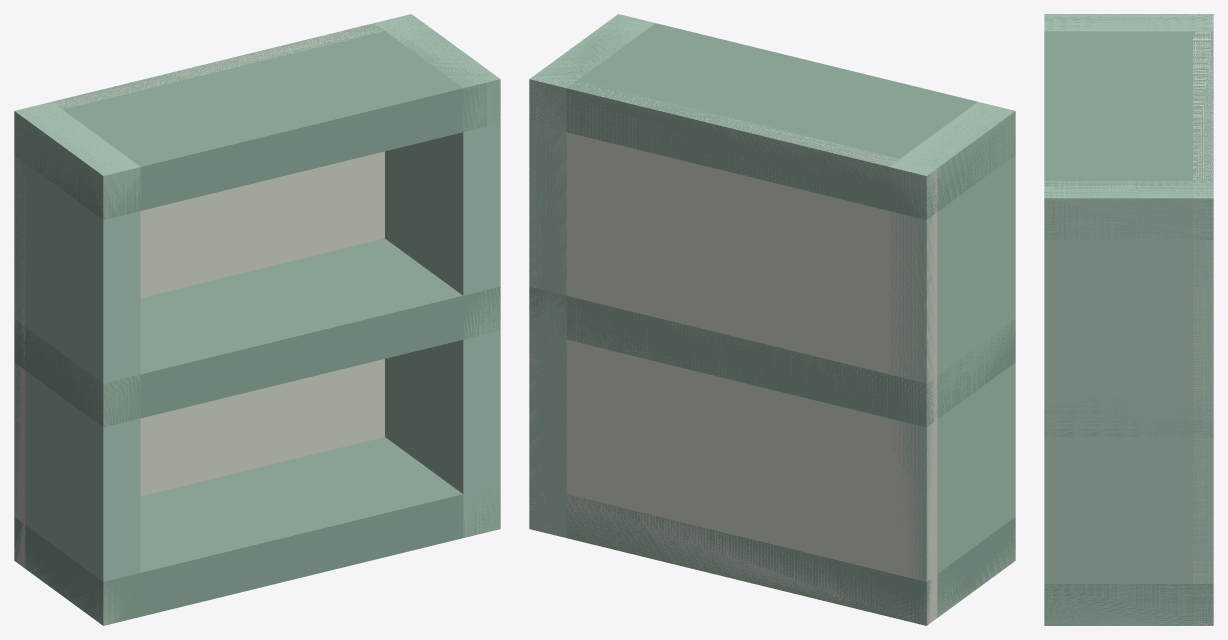
The model's file is rf3-shelf-01.glb.
3 views of the same model, side by side, from view 1: azimuth 30°, elevation 25°; view 2: azimuth 150°, elevation 25°; view 3: azimuth 270°, elevation 25° (orthographic). The views are drawn at different scales.
Size of the model in its own units: 0.85 by 0.92 by 0.33.
